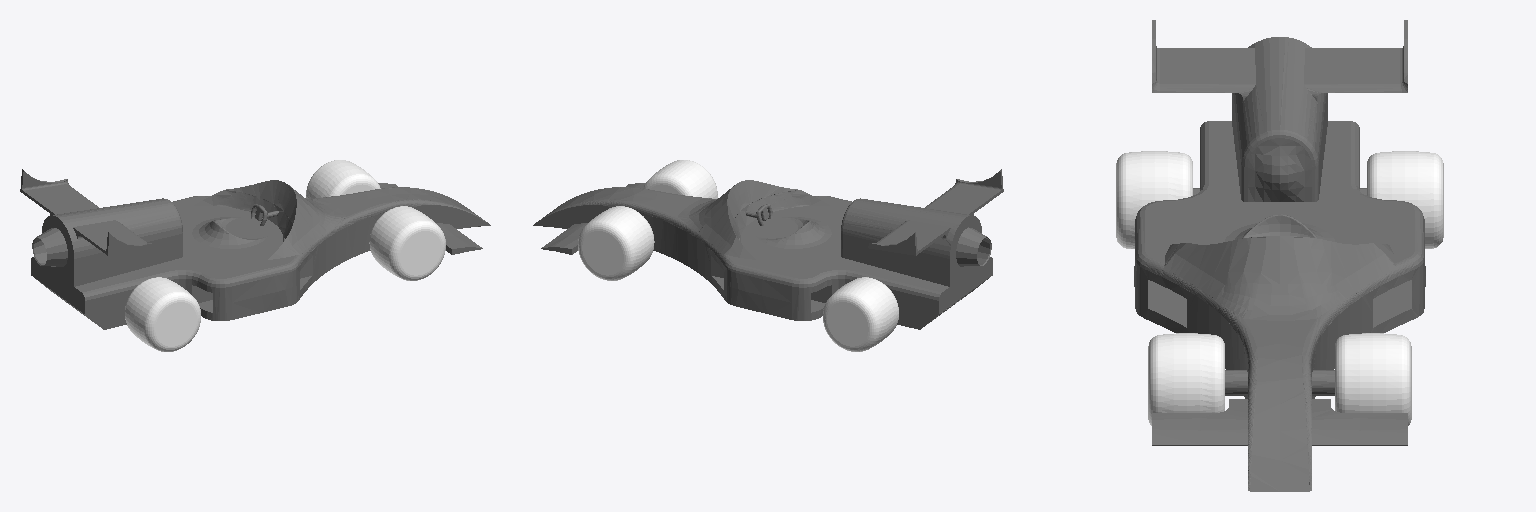
robot.urdf — concorde:
<?xml version="1.0" encoding="utf-8"?>
<!-- This URDF was automatically created by SolidWorks to URDF Exporter! Originally created by Stephen Brawner (brawner@gmail.com) 
     Commit Version: 1.5.1-0-g916b5db  Build Version: 1.5.7152.31018
     For more information, please see http://wiki.ros.org/sw_urdf_exporter -->
<robot
  name="concorde">
  <link
    name="base_link">
    <inertial>
      <origin
        xyz="0.0050006 -7.9635E-07 -0.0029105"
        rpy="0 0 0" />
      <mass
        value="0.030526" />
      <inertia
        ixx="3.1037E-06"
        ixy="-6.4881E-10"
        ixz="1.5093E-06"
        iyy="2.0657E-05"
        iyz="3.7094E-11"
        izz="2.2043E-05" />
    </inertial>
    <visual>
      <origin
        xyz="0 0 0"
        rpy="0 0 0" />
      <geometry>
        <mesh
          filename="package://concorde/meshes/base_link.STL" />
      </geometry>
      <material
        name="">
        <color
          rgba="0.50196 0.50196 0.50196 1" />
      </material>
    </visual>
    <collision>
      <origin
        xyz="0 0 0"
        rpy="0 0 0" />
      <geometry>
        <mesh
          filename="package://concorde/meshes/base_link.STL" />
      </geometry>
    </collision>
  </link>
  <link
    name="link_FR">
    <inertial>
      <origin
        xyz="8.6736E-19 0.0059525 0"
        rpy="0 0 0" />
      <mass
        value="0.0020848" />
      <inertia
        ixx="5.2358E-08"
        ixy="1.1117E-24"
        ixz="-4.392E-25"
        iyy="5.9195E-08"
        iyz="-1.0562E-24"
        izz="5.2358E-08" />
    </inertial>
    <visual>
      <origin
        xyz="0 0 0"
        rpy="0 0 0" />
      <geometry>
        <mesh
          filename="package://concorde/meshes/link_FR.STL" />
      </geometry>
      <material
        name="">
        <color
          rgba="1 1 1 1" />
      </material>
    </visual>
    <collision>
      <origin
        xyz="0 0 0"
        rpy="0 0 0" />
      <geometry>
        <mesh
          filename="package://concorde/meshes/link_FR.STL" />
      </geometry>
    </collision>
  </link>
  <joint
    name="joint_FR"
    type="continuous">
    <origin
      xyz="0.048826 -0.0205 -0.0058097"
      rpy="0 0 0" />
    <parent
      link="base_link" />
    <child
      link="link_FR" />
    <axis
      xyz="0 1 0" />
  </joint>
  <link
    name="link_FL">
    <inertial>
      <origin
        xyz="-1.7347E-18 -0.0059525 0"
        rpy="0 0 0" />
      <mass
        value="0.0020848" />
      <inertia
        ixx="5.2358E-08"
        ixy="2.6949E-25"
        ixz="3.4549E-25"
        iyy="5.9195E-08"
        iyz="-7.0085E-25"
        izz="5.2358E-08" />
    </inertial>
    <visual>
      <origin
        xyz="0 0 0"
        rpy="0 0 0" />
      <geometry>
        <mesh
          filename="package://concorde/meshes/link_FL.STL" />
      </geometry>
      <material
        name="">
        <color
          rgba="1 1 1 1" />
      </material>
    </visual>
    <collision>
      <origin
        xyz="0 0 0"
        rpy="0 0 0" />
      <geometry>
        <mesh
          filename="package://concorde/meshes/link_FL.STL" />
      </geometry>
    </collision>
  </link>
  <joint
    name="joint_FL"
    type="continuous">
    <origin
      xyz="0.048826 0.0205 -0.0058097"
      rpy="0 0 0" />
    <parent
      link="base_link" />
    <child
      link="link_FL" />
    <axis
      xyz="0 1 0" />
  </joint>
  <link
    name="link_BR">
    <inertial>
      <origin
        xyz="0 0.0059525 -1.3878E-17"
        rpy="0 0 0" />
      <mass
        value="0.0020848" />
      <inertia
        ixx="5.2358E-08"
        ixy="8.0645E-25"
        ixz="4.5554E-25"
        iyy="5.9195E-08"
        iyz="-1.2474E-24"
        izz="5.2358E-08" />
    </inertial>
    <visual>
      <origin
        xyz="0 0 0"
        rpy="0 0 0" />
      <geometry>
        <mesh
          filename="package://concorde/meshes/link_BR.STL" />
      </geometry>
      <material
        name="">
        <color
          rgba="1 1 1 1" />
      </material>
    </visual>
    <collision>
      <origin
        xyz="0 0 0"
        rpy="0 0 0" />
      <geometry>
        <mesh
          filename="package://concorde/meshes/link_BR.STL" />
      </geometry>
    </collision>
  </link>
  <joint
    name="joint_BR"
    type="continuous">
    <origin
      xyz="-0.018674 -0.0255 -0.006"
      rpy="0 0 0" />
    <parent
      link="base_link" />
    <child
      link="link_BR" />
    <axis
      xyz="0 1 0" />
  </joint>
  <link
    name="link_BL">
    <inertial>
      <origin
        xyz="0 -0.0059525 1.3878E-17"
        rpy="0 0 0" />
      <mass
        value="0.0020848" />
      <inertia
        ixx="5.2358E-08"
        ixy="-7.9204E-25"
        ixz="3.9571E-25"
        iyy="5.9195E-08"
        iyz="1.8783E-25"
        izz="5.2358E-08" />
    </inertial>
    <visual>
      <origin
        xyz="0 0 0"
        rpy="0 0 0" />
      <geometry>
        <mesh
          filename="package://concorde/meshes/link_BL.STL" />
      </geometry>
      <material
        name="">
        <color
          rgba="1 1 1 1" />
      </material>
    </visual>
    <collision>
      <origin
        xyz="0 0 0"
        rpy="0 0 0" />
      <geometry>
        <mesh
          filename="package://concorde/meshes/link_BL.STL" />
      </geometry>
    </collision>
  </link>
  <joint
    name="joint_BL"
    type="continuous">
    <origin
      xyz="-0.018674 0.0255 -0.006"
      rpy="0 0 0" />
    <parent
      link="base_link" />
    <child
      link="link_BL" />
    <axis
      xyz="0 1 0" />
  </joint>
</robot>

--- What the picture shows (computed from the rendered views, not written in the file) ---
Views: 3 orthographic renders of the robot side by side, from view 1: azimuth 30°, elevation 25°; view 2: azimuth 150°, elevation 25°; view 3: azimuth 270°, elevation 25°.
Model concorde with 5 links and 4 joints (4 continuous), rooted at base_link, posed every joint at zero.
Visible links, largest first — view 1: base_link, link_FR, link_BR, link_FL; view 2: base_link, link_FL, link_BL, link_FR; view 3: base_link, link_FR, link_FL, link_BR, link_BL.
Link boxes in pixels (<box>): base_link: <box>20,169,490,329</box>; link_FR: <box>369,206,445,280</box>; link_BR: <box>125,277,200,351</box>; link_FL: <box>306,160,380,198</box>; base_link: <box>533,169,1003,329</box>; link_FL: <box>578,206,654,280</box>; link_BL: <box>823,277,898,351</box>; link_FR: <box>643,160,717,198</box>; base_link: <box>1134,20,1425,491</box>; link_FR: <box>1148,333,1224,425</box>; link_FL: <box>1335,333,1411,425</box>; link_BR: <box>1116,151,1192,248</box>; link_BL: <box>1367,151,1443,248</box>.
Size in the robot's own frame: 0.1165 by 0.051 by 0.032 metres.
Meshes: 5 distinct files referenced, 5 mesh visuals loaded (5 binary STL).
